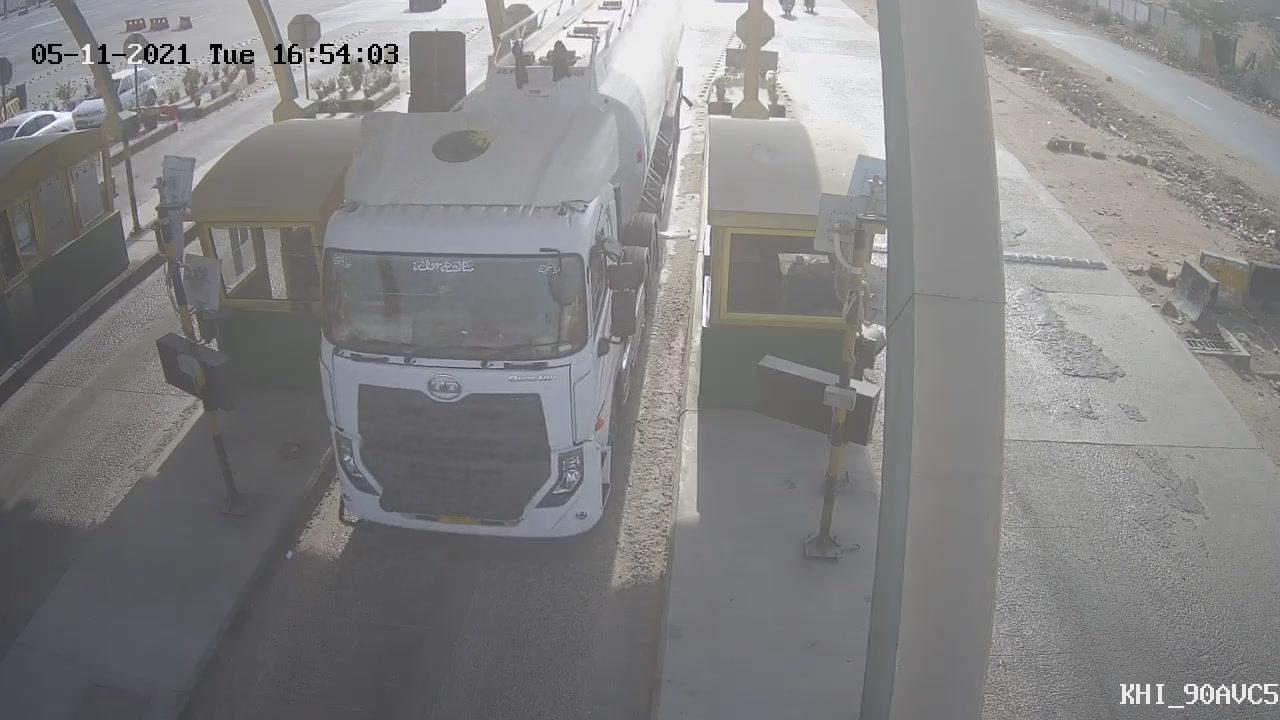F6: (277, 1, 703, 572)
